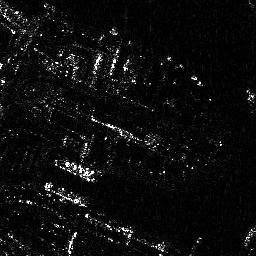ship: (44, 181, 91, 208), (54, 157, 100, 183)
